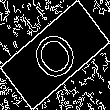O_SE: (25, 22, 85, 88)
